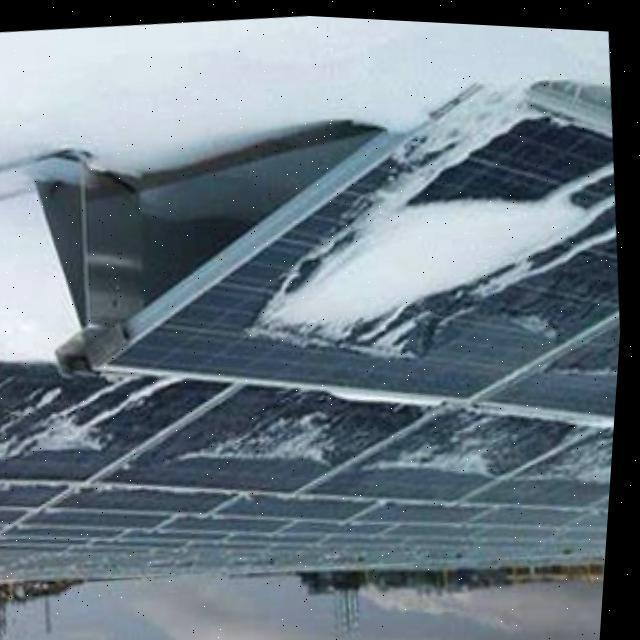Anomaly Solar Panel: (108, 86, 623, 396), (96, 380, 462, 493), (0, 358, 242, 484), (308, 399, 612, 499), (468, 415, 620, 502)
Snow: (242, 85, 620, 370), (0, 369, 217, 467), (365, 397, 588, 484), (181, 396, 384, 468), (523, 426, 619, 481)
